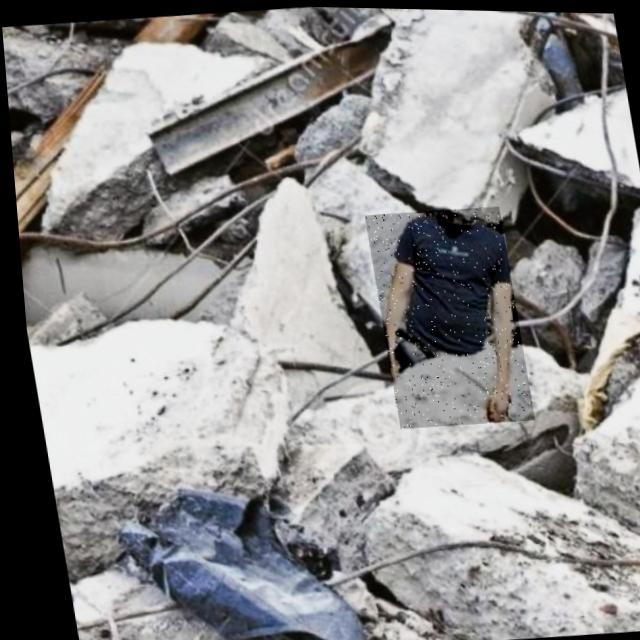Person in Rubble: (360, 202, 528, 429)
